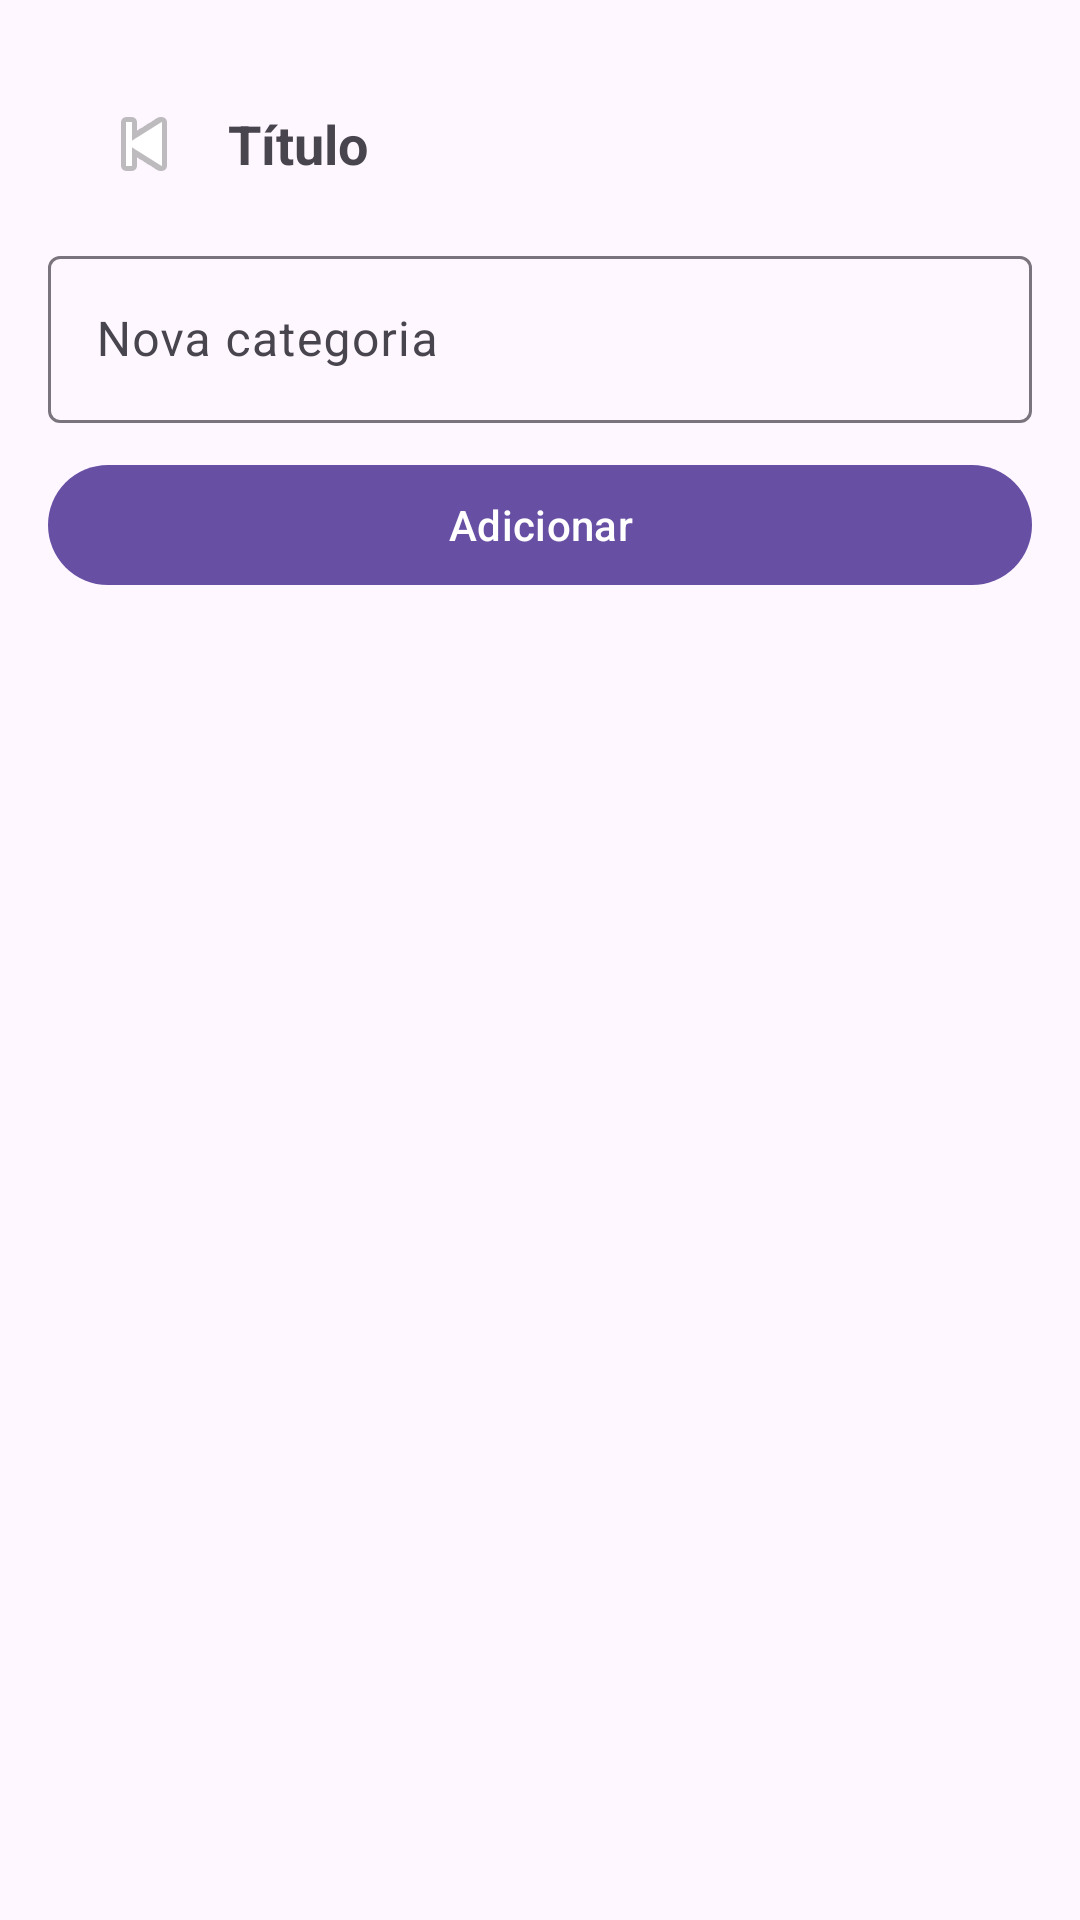

Locate icon controls on the screen. Image size 1080px×1920px, boxes as (x1, y1, x2, y2).
Voltar: (121, 117, 167, 171)
